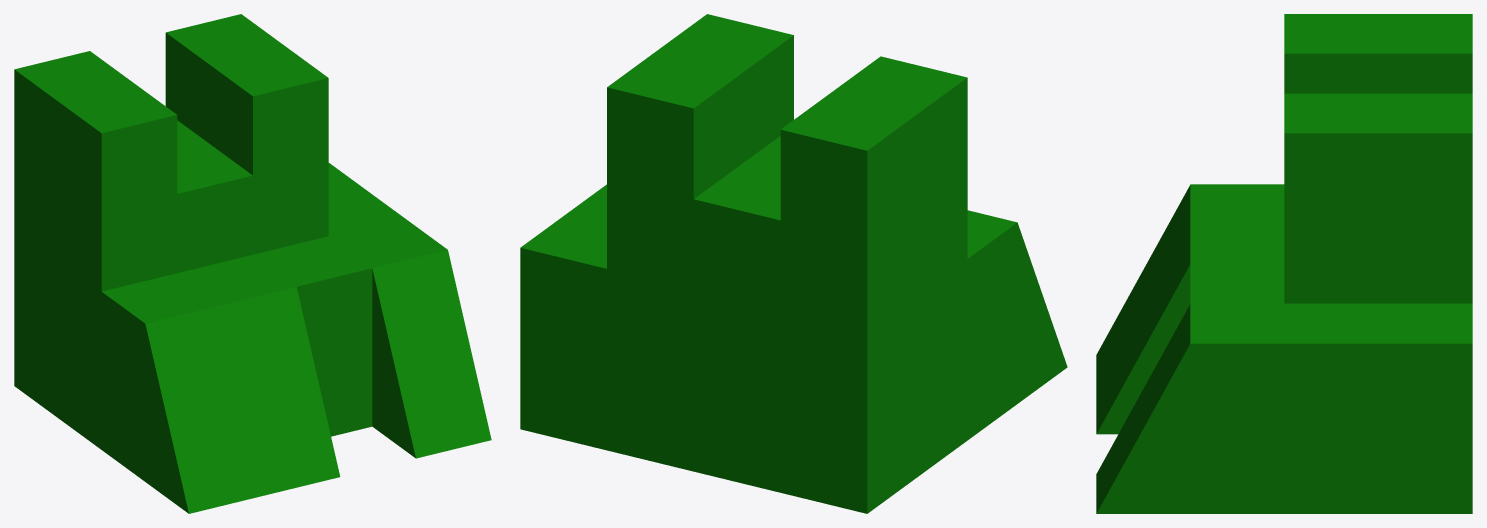
Rendered from vista_4.glb.
3 renders of one model, left to right at view 1: azimuth 30°, elevation 25°; view 2: azimuth 150°, elevation 25°; view 3: azimuth 270°, elevation 25°, orthographic. The views are drawn at different scales.
Visible parts, largest first — view 1: Object_2; view 2: Object_2; view 3: Object_2.
Boxes of the visible parts, x1,y1,x2,y2 form: Object_2: (14,14,491,513); Object_2: (520,14,1067,513); Object_2: (1096,14,1472,513).
Size of the model in its own units: 80 by 80 by 80.
